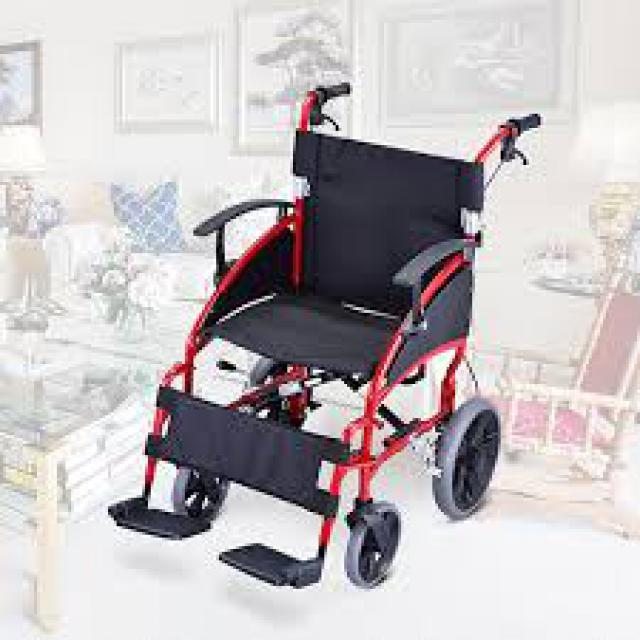wheelchair: (96, 57, 564, 592)
